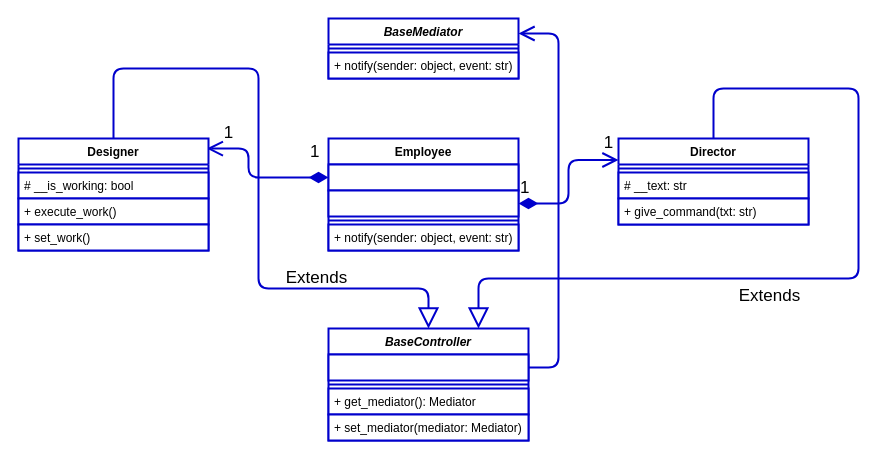
This 894x460 diagram has some shape labels left out. The centre of each missing label's shape, as x and y in pixels:
"# _component1: Component1" goes at pixel 423 177.
"# _component2: Component2" goes at pixel 423 203.
"# _mediator: Mediator" goes at pixel 428 367.
